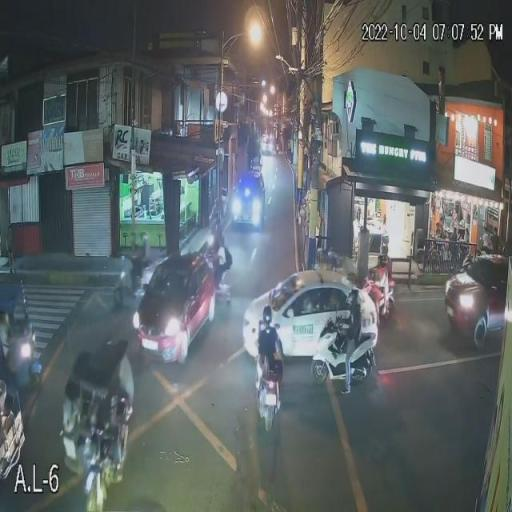helmet: (261, 307, 276, 329), (344, 291, 360, 311), (376, 256, 390, 268), (140, 232, 147, 244)
motorcycle: (312, 320, 376, 382), (253, 359, 284, 430), (112, 256, 148, 308)
rider: (342, 292, 362, 371), (257, 310, 278, 369), (373, 255, 388, 296), (139, 231, 148, 282)
